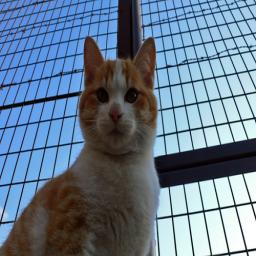catnose: (107, 108, 123, 123)
